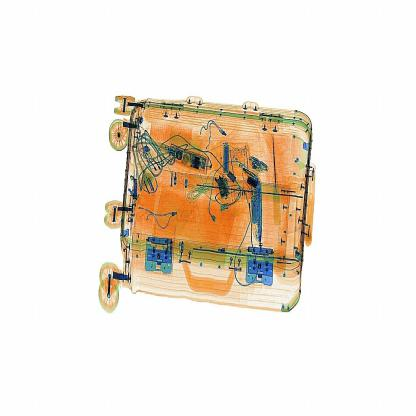wrench: (271, 125, 286, 231)
